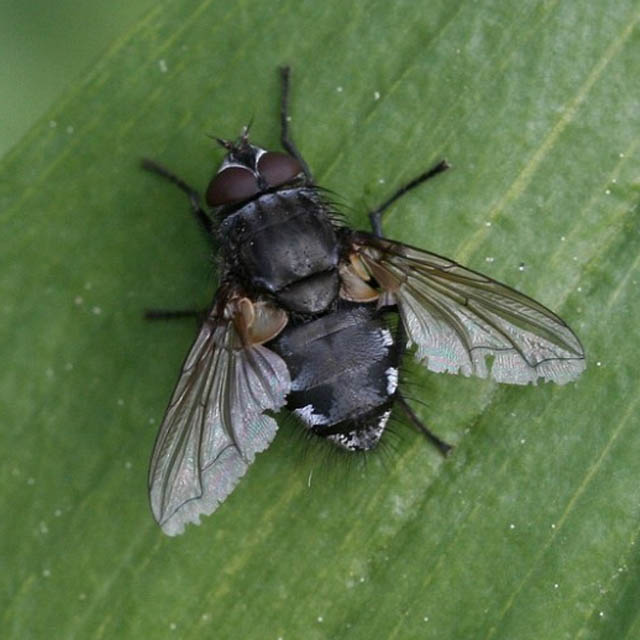green bottles fly: (95, 44, 596, 538)
